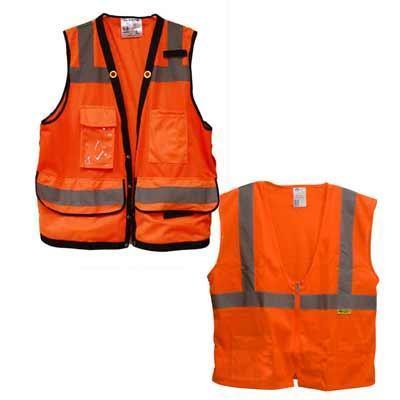vest: (32, 11, 219, 250), (207, 178, 379, 392)
